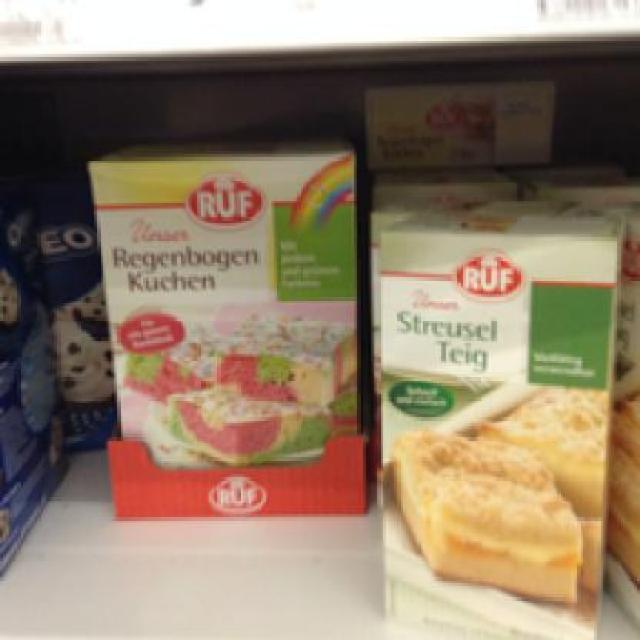Cake: (366, 192, 623, 638), (80, 137, 360, 492)
